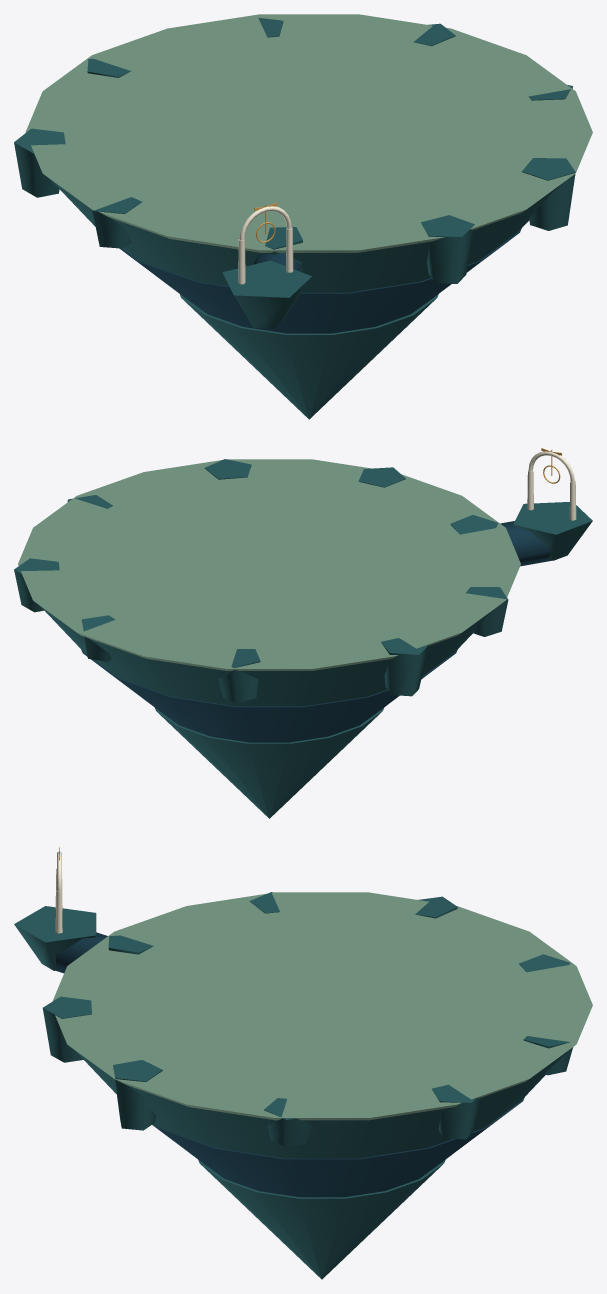
Rendered from island-2-low.glb.
3 views of the same model, one above another, from view 1: azimuth 30°, elevation 25°; view 2: azimuth 150°, elevation 25°; view 3: azimuth 270°, elevation 25° (orthographic). The views are drawn at different scales.
Parts seen in each view (by area): view 1: island-1-terrace-merged, teal-basalt-merged, deep-basalt-merged, chalk-sail-merged; view 2: island-1-terrace-merged, teal-basalt-merged, deep-basalt-merged, chalk-sail-merged; view 3: island-1-terrace-merged, teal-basalt-merged, deep-basalt-merged.
Part boxes in pixels (x1,y1,x2,y2): island-1-terrace-merged: (25,14,592,252); teal-basalt-merged: (14,17,575,419); deep-basalt-merged: (119,229,521,333); chalk-sail-merged: (238,206,293,284); island-1-terrace-merged: (18,459,520,670); teal-basalt-merged: (14,459,592,818); deep-basalt-merged: (81,521,560,742); chalk-sail-merged: (527,451,576,520); island-1-terrace-merged: (52,892,592,1120); teal-basalt-merged: (14,892,573,1279); deep-basalt-merged: (50,932,524,1197).
Size of the model in its own units: 67.62 by 47.59 by 72.63.
